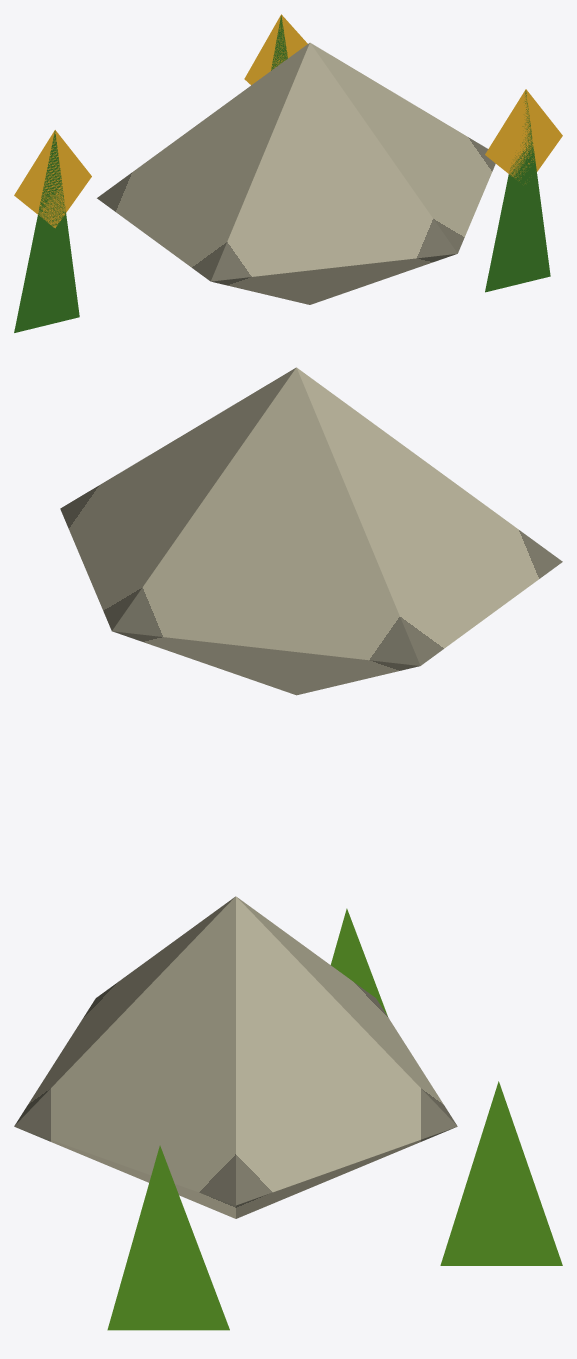
The model's file is roadside.gltf.
3 renders of one model, top to bottom at view 1: azimuth 30°, elevation 25°; view 2: azimuth 150°, elevation 25°; view 3: azimuth 270°, elevation 25°, orthographic. The views are drawn at different scales.
Visible parts, largest first — view 1: roadside; view 2: roadside; view 3: roadside.
Part boxes in pixels (left/top/right/bottom): roadside: left=14, top=14, right=562, bottom=332; roadside: left=60, top=367, right=562, bottom=695; roadside: left=14, top=896, right=562, bottom=1330.
Bounding box in the file's own units: 1.8 × 0.9531 × 1.47.
Materials: 1 (1 with a texture image).
